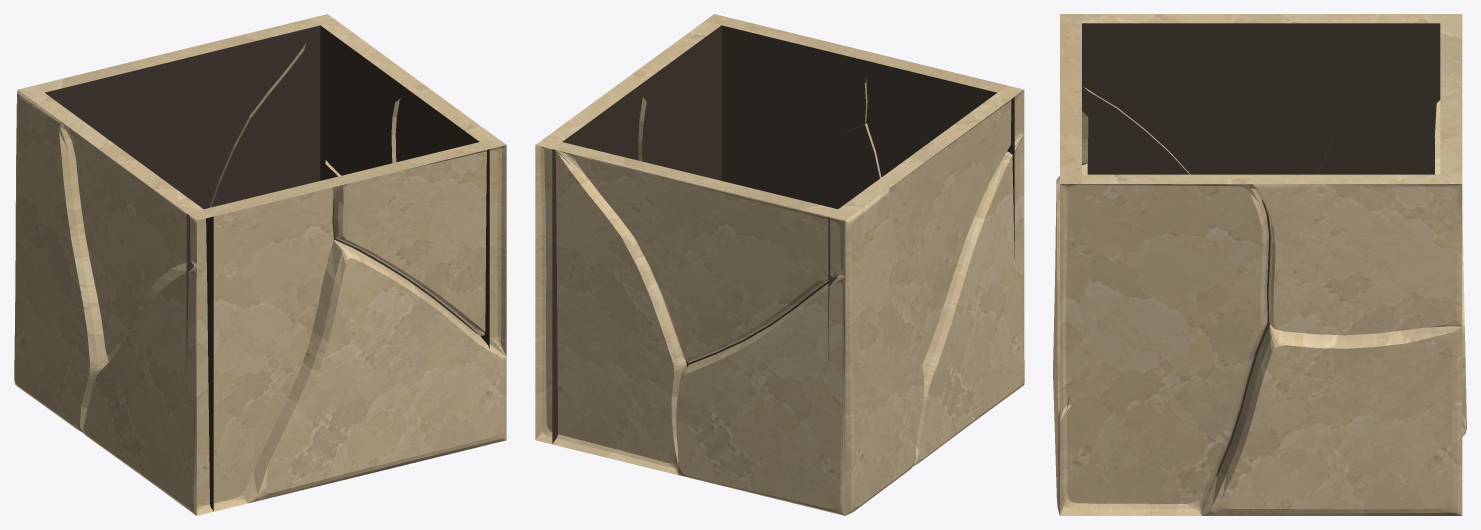
Rendered from ground_island_09.glb.
3 views of the same model, side by side, from view 1: azimuth 30°, elevation 25°; view 2: azimuth 150°, elevation 25°; view 3: azimuth 270°, elevation 25° (orthographic). The views are drawn at different scales.
Visible parts, largest first — view 1: GroundIsland09_Body; view 2: GroundIsland09_Body; view 3: GroundIsland09_Body.
Boxes of the visible parts, x1=… form: GroundIsland09_Body: x1=14, y1=14, x2=506, y2=515; GroundIsland09_Body: x1=535, y1=14, x2=1024, y2=515; GroundIsland09_Body: x1=1053, y1=14, x2=1466, y2=515.
Size of the model in its own units: 1.04 by 0.91 by 1.03.
Materials: 14 (13 with a texture image).
